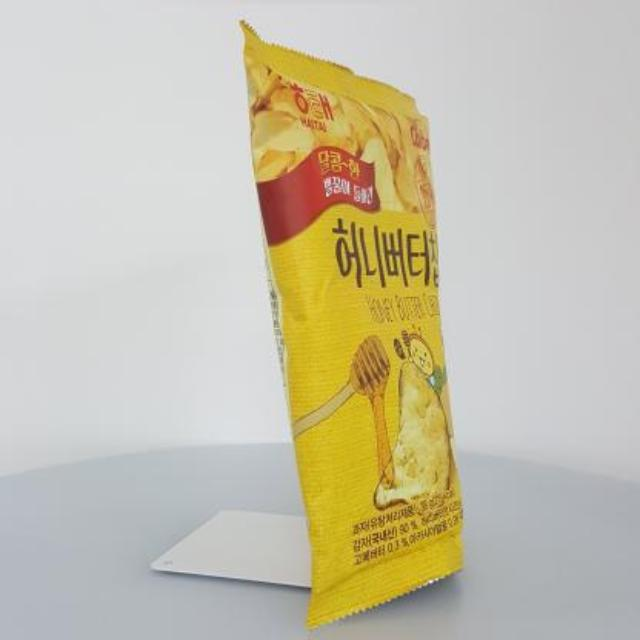snack_bag: (225, 12, 503, 636)
